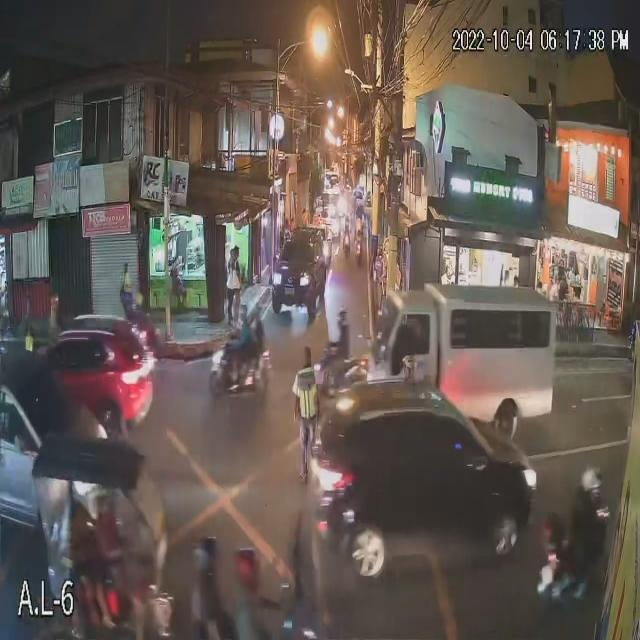helmet: (237, 551, 261, 586), (193, 538, 215, 569), (580, 466, 603, 494), (238, 307, 253, 322), (334, 307, 347, 318)
motorcycle: (532, 503, 604, 612), (209, 323, 271, 400), (316, 343, 371, 397), (340, 235, 353, 258), (353, 235, 364, 259)
rider: (554, 465, 611, 593), (98, 523, 132, 617), (223, 306, 261, 385), (61, 509, 95, 591), (187, 571, 225, 640), (322, 307, 352, 373), (243, 589, 272, 640)
